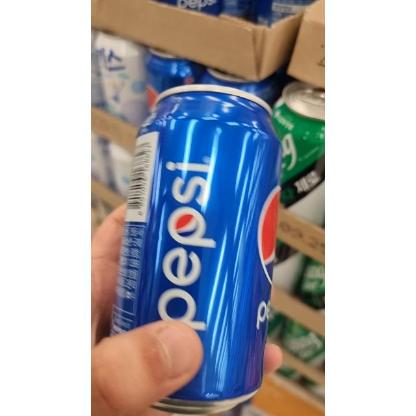Can: (110, 84, 284, 416)
